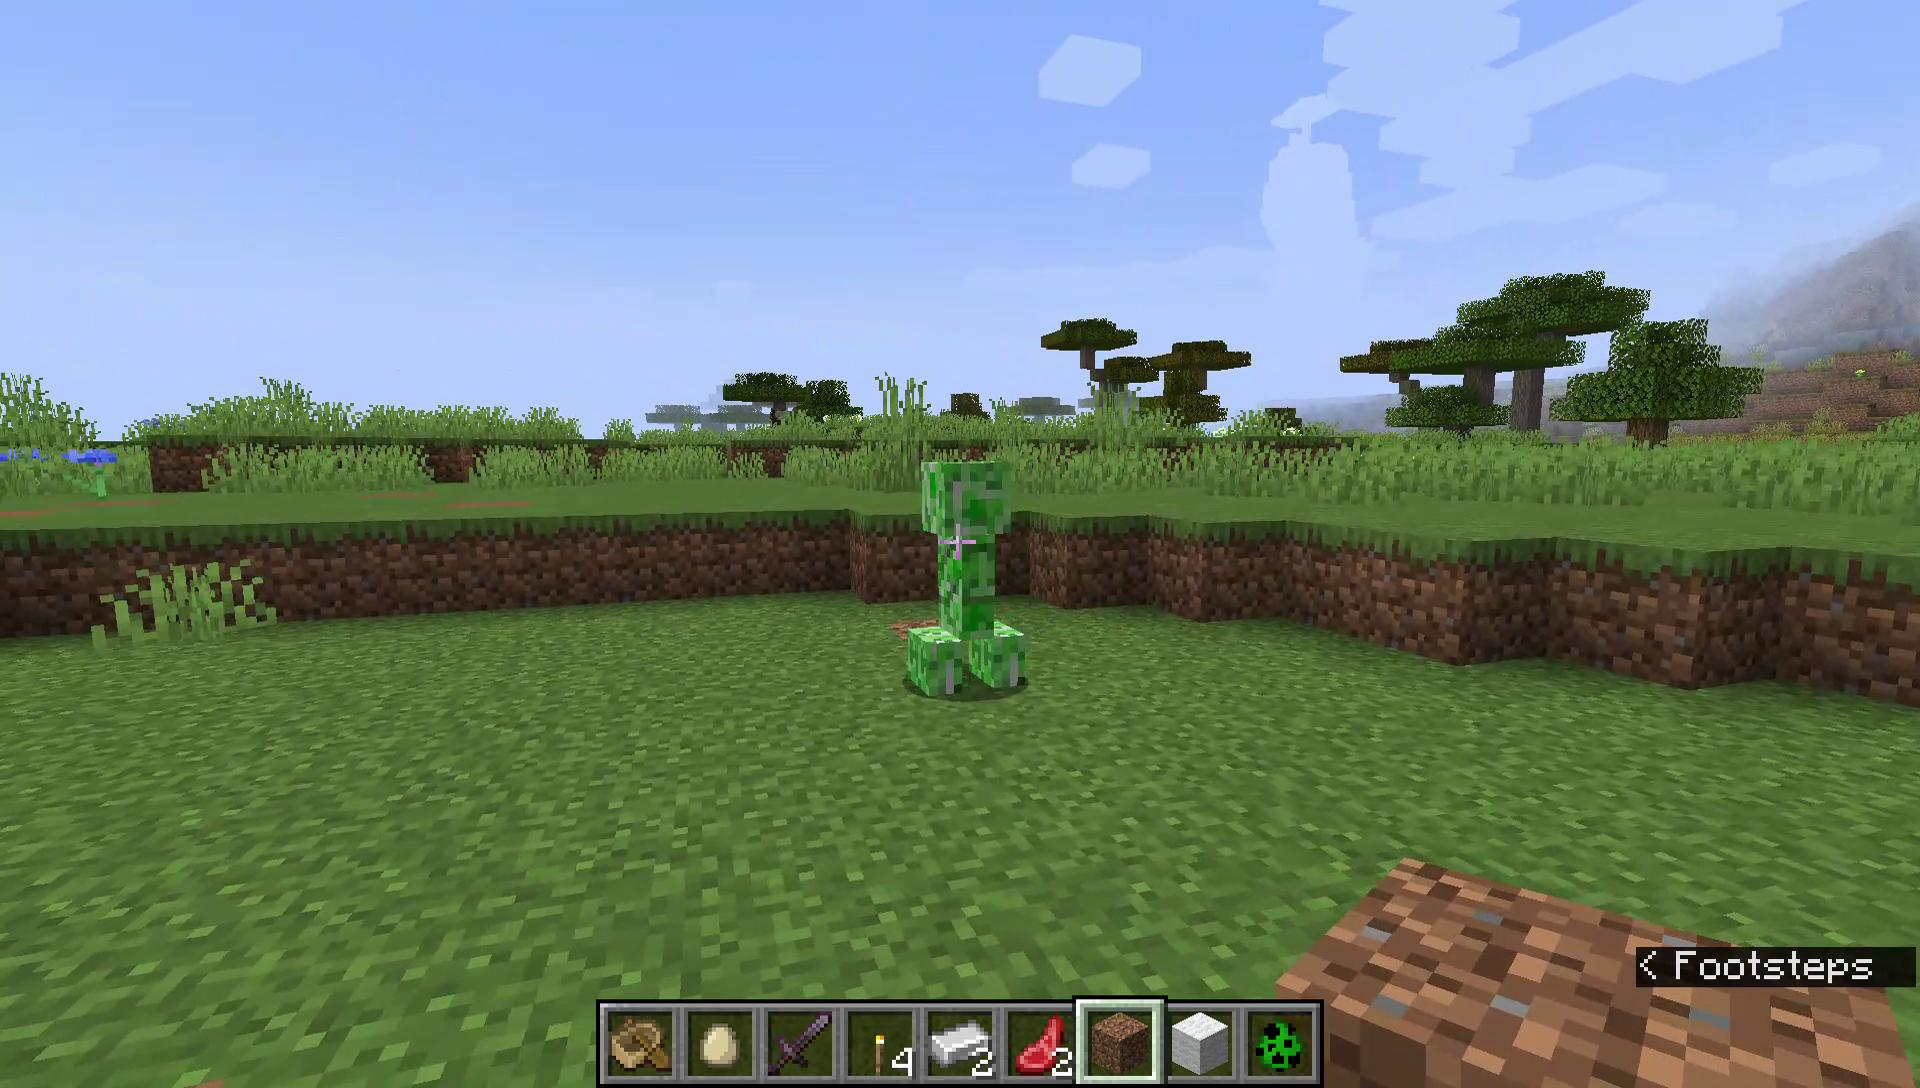creeper: (903, 454, 1033, 700)
